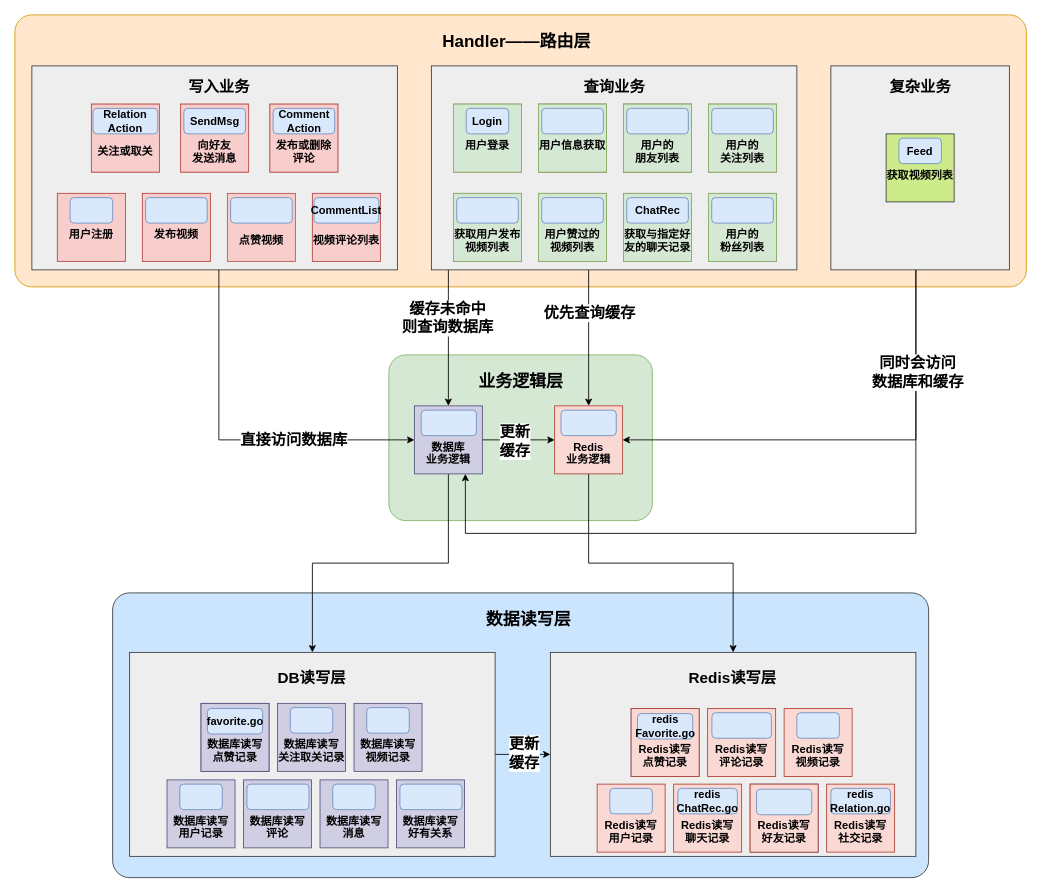
Image size: 1041x893. Some labels were removed from this diagram. Each missing label, with the centre of its shape:
"action.go" belongs at (311,720).
"comment.go" belongs at (277,796).
"DbLogic.go" belongs at (448,422).
"Favorite Action" belongs at (261,210).
"FavoriteList" belongs at (572,210).
"FollowerList" belongs at (742,210).
"FollowList" belongs at (742,121).
"friend.go" belongs at (430,796).
"FriendList" belongs at (657,121).
"GetUserInfo" belongs at (572,121).
"handler.go" belongs at (588,422).
"msg.go" belongs at (353,796).
"PublishList" belongs at (487,210).
"redis Comment.go" belongs at (741,725).
"redis Friend.go" belongs at (784,801).
"redis User.go" belongs at (630,801).
"redis Video.go" belongs at (817,725).
"Register" belongs at (91,210).
"user.go" belongs at (200,796).
"video.go" belongs at (387,720).
"VideoPublish Action" belongs at (176,210).
